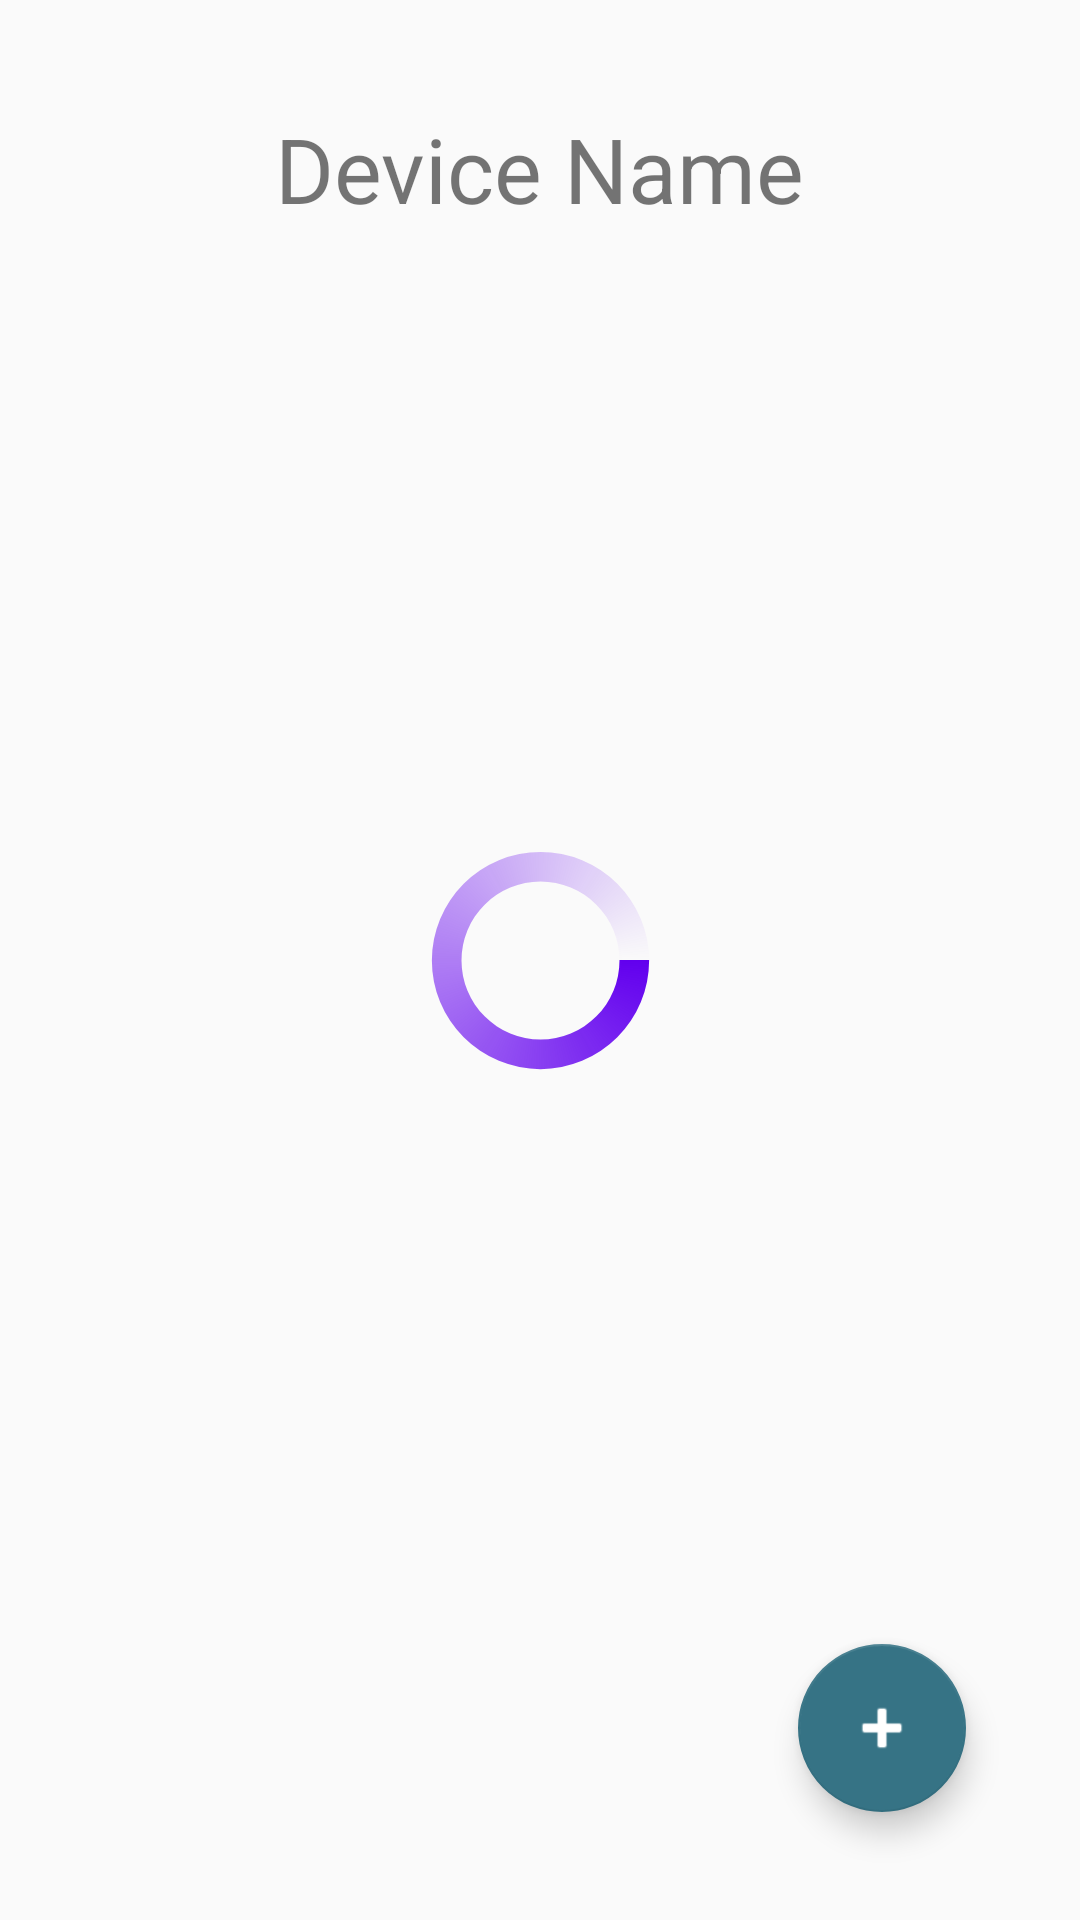

Icon bounding boxes for this 1080 × 1920 phone screenshot, format detection(x1, y1, x2, y2):
add: detection(798, 1644, 966, 1812)
